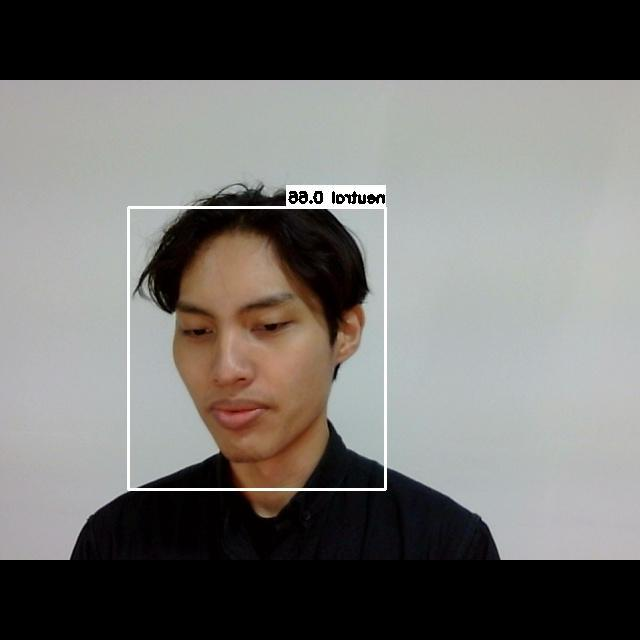Fear: (164, 272, 337, 454)
